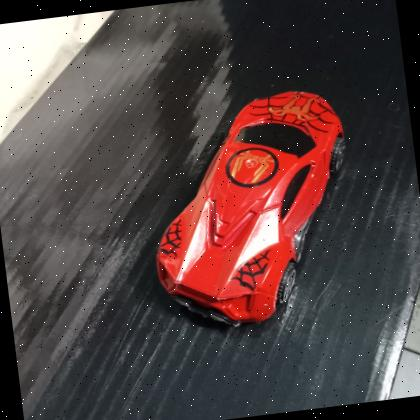Car: (129, 80, 374, 342)
